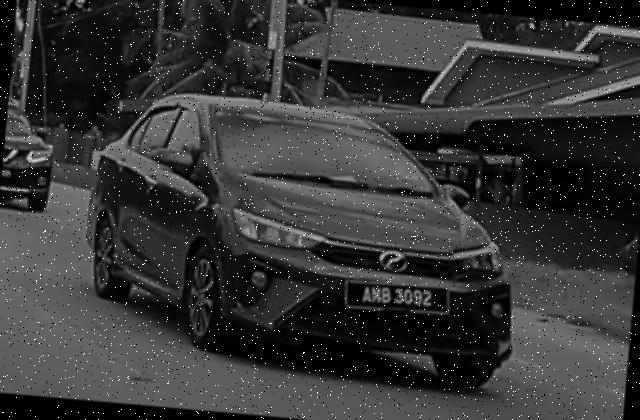License_Plate: (342, 278, 454, 319)
car: (75, 85, 535, 393)
